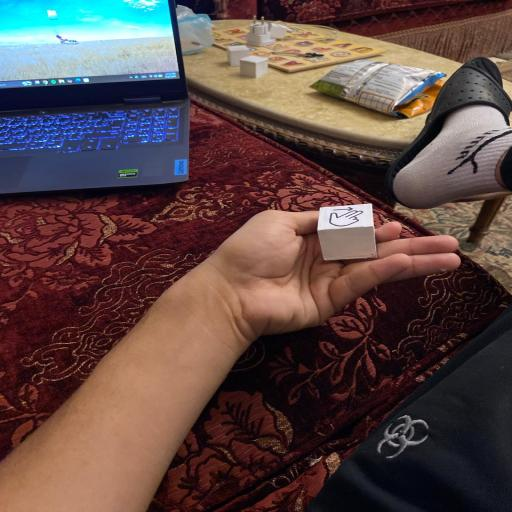RightSwipe: (315, 203, 378, 261)
